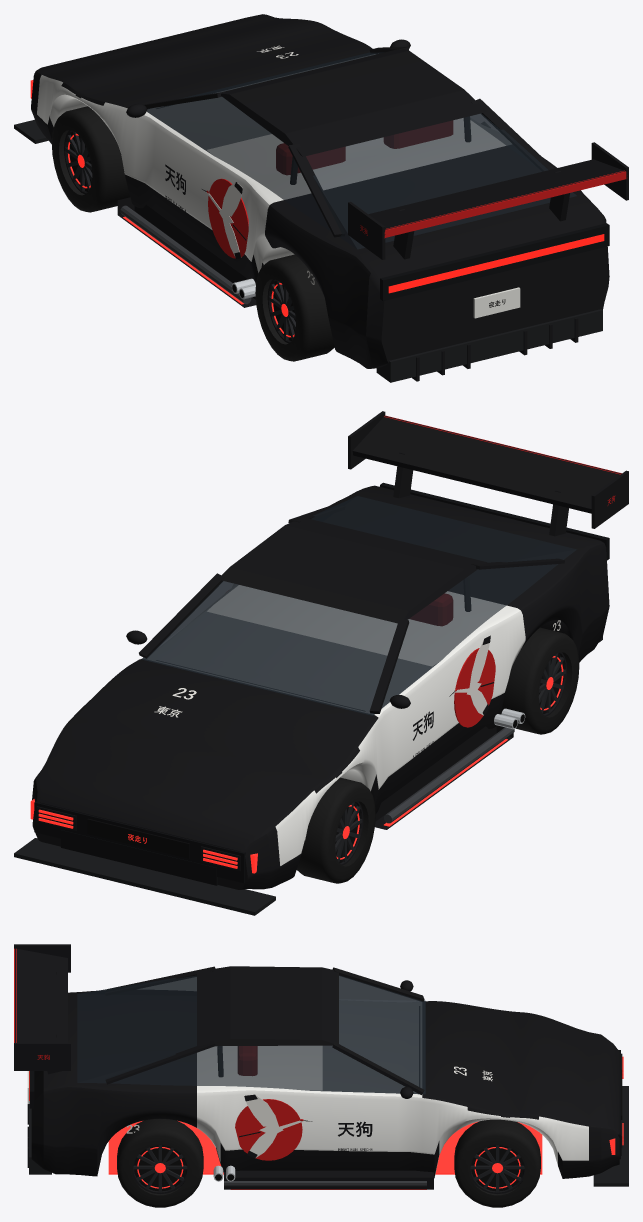
File: jdm.glb
The picture shows the model from 3 angles, top to bottom: view 1: azimuth 30°, elevation 25°; view 2: azimuth 150°, elevation 25°; view 3: azimuth 270°, elevation 25°; orthographic projection. The views are drawn at different scales.
Visible parts, largest first — view 1: Jdm; view 2: Jdm; view 3: Jdm.
Boxes of the visible parts, bbox=[...] form: Jdm: bbox=[14, 14, 628, 382]; Jdm: bbox=[14, 411, 628, 915]; Jdm: bbox=[14, 944, 628, 1207].
Bounding box in the file's own units: 1.99 × 1.3 × 4.54.
